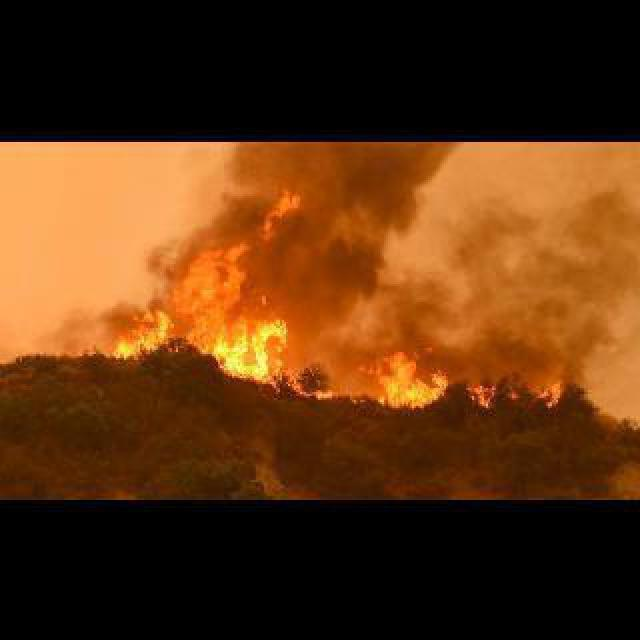Fire: (108, 186, 550, 408)
